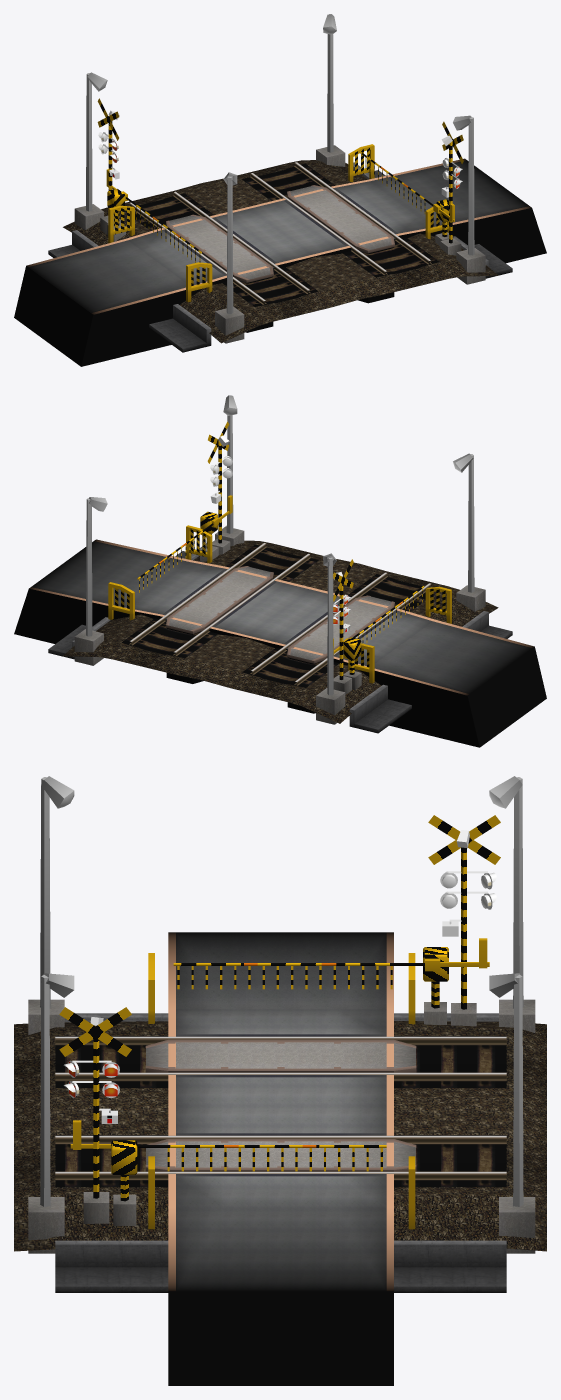
The model's file is KIN_2RAIL_HUMIKIRI25.glb.
3 renders of one model, top to bottom at view 1: azimuth 30°, elevation 25°; view 2: azimuth 150°, elevation 25°; view 3: azimuth 270°, elevation 25°, orthographic. The views are drawn at different scales.
Parts seen in each view (by area): view 1: obj3, bone8, bone0, BODY (×2); view 2: obj3, bone0, bone8, BODY (×2); view 3: obj3, BODY (×2), bone0, bone8, BAR4 (×2), OBI4 (×2).
Boxes of the visible parts, x1,y1,x2,y2 form: obj3: (14,158,546,366); bone8: (186,115,485,343); bone0: (74,14,374,243); BODY (×2): (97,98,463,255); obj3: (14,539,546,747); bone0: (74,497,374,724); bone8: (186,395,485,623); BODY (×2): (200,421,361,694); obj3: (14,932,546,1385); BODY (×2): (59,815,500,1225); bone0: (408,776,535,1253); bone8: (28,776,154,1253); BAR4 (×2): (70,938,489,1149); OBI4 (×2): (167,966,392,1171).
Bounding box in the file's own units: 50 × 19.59 × 29.53.
40 materials, 37 textured.
